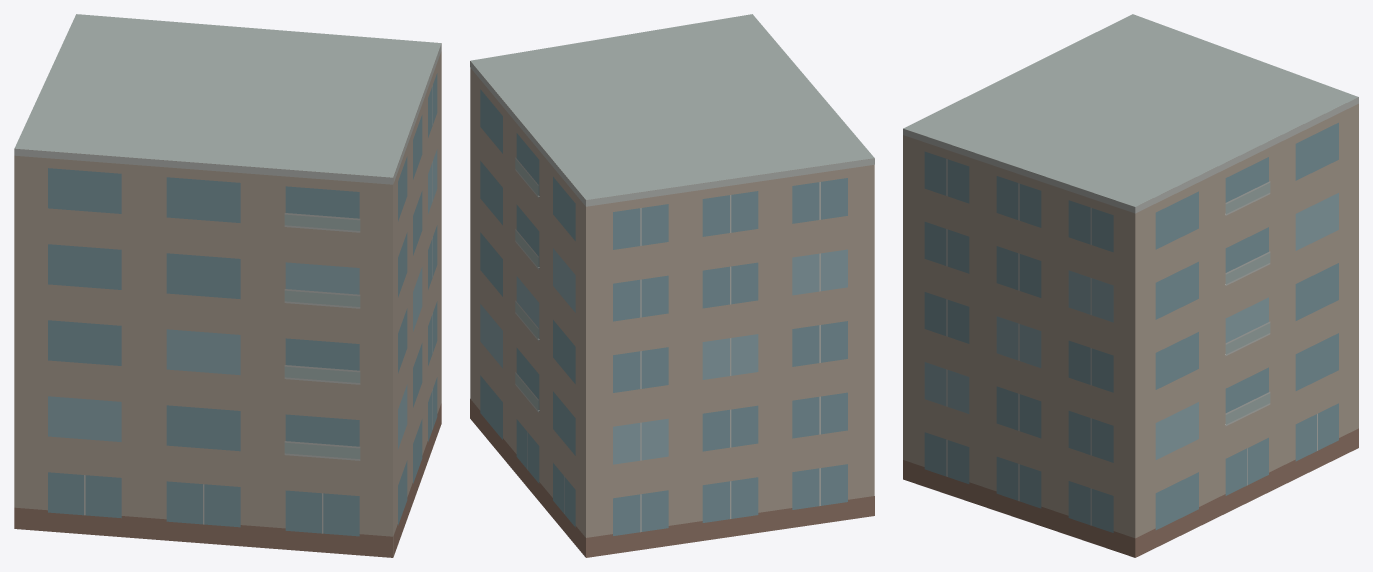
The model's file is survey-upis-32890373.glb.
3 views of the same model, side by side, from view 1: azimuth 30°, elevation 25°; view 2: azimuth 150°, elevation 25°; view 3: azimuth 270°, elevation 25° (orthographic). The views are drawn at different scales.
Visible parts, largest first — view 1: survey-upis-32890373.tmp; view 2: survey-upis-32890373.tmp; view 3: survey-upis-32890373.tmp.
Boxes of the visible parts, bbox=[...] form: survey-upis-32890373.tmp: bbox=[14, 14, 441, 557]; survey-upis-32890373.tmp: bbox=[470, 14, 874, 557]; survey-upis-32890373.tmp: bbox=[903, 14, 1358, 557].
Size of the model in its own units: 15.58 by 13.2 by 15.55.
